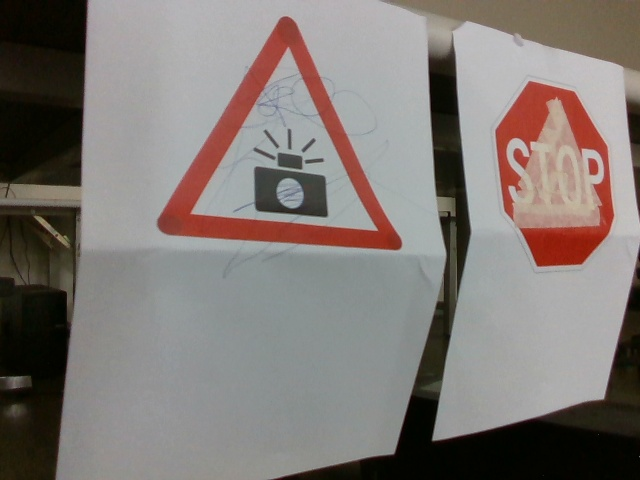camera: (157, 16, 400, 251)
stop: (494, 80, 615, 275)
